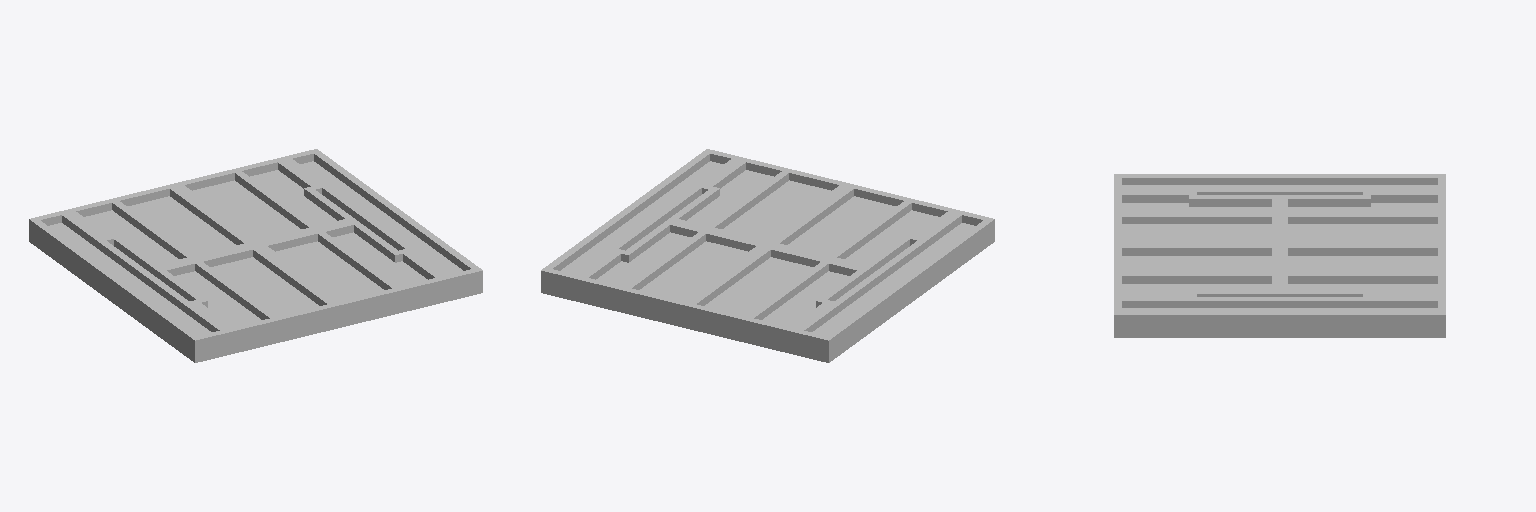
Rendered from Tile1.obj.
The picture shows the model from 3 angles: view 1: azimuth 30°, elevation 25°; view 2: azimuth 150°, elevation 25°; view 3: azimuth 270°, elevation 25°; orthographic projection.
Visible parts, largest first — view 1: object 1; view 2: object 1; view 3: object 1.
Part boxes in pixels (x1,y1,x2,y2): object 1: (29,149,482,362); object 1: (541,149,994,362); object 1: (1114,174,1445,337).
Size of the model in its own units: 4 by 0.3 by 4.